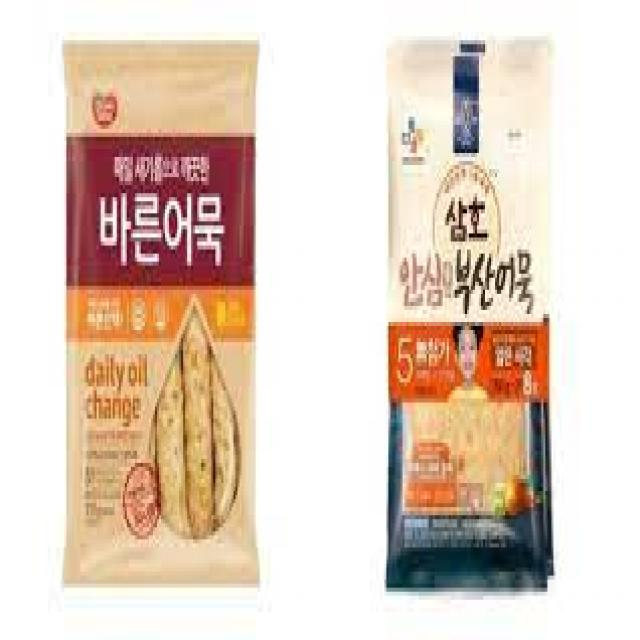-: (58, 23, 262, 594), (382, 16, 556, 600)
